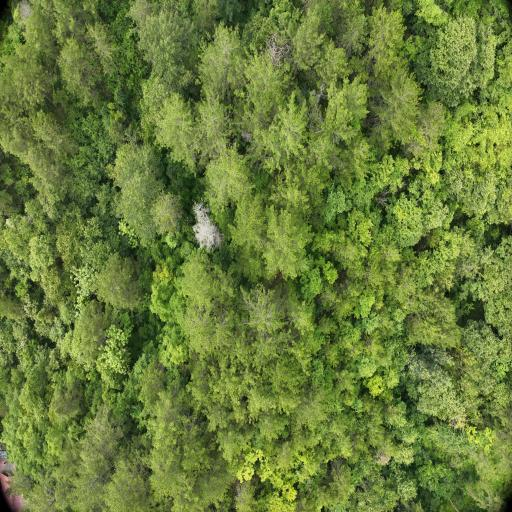dead-tree: (192, 203, 222, 253)
